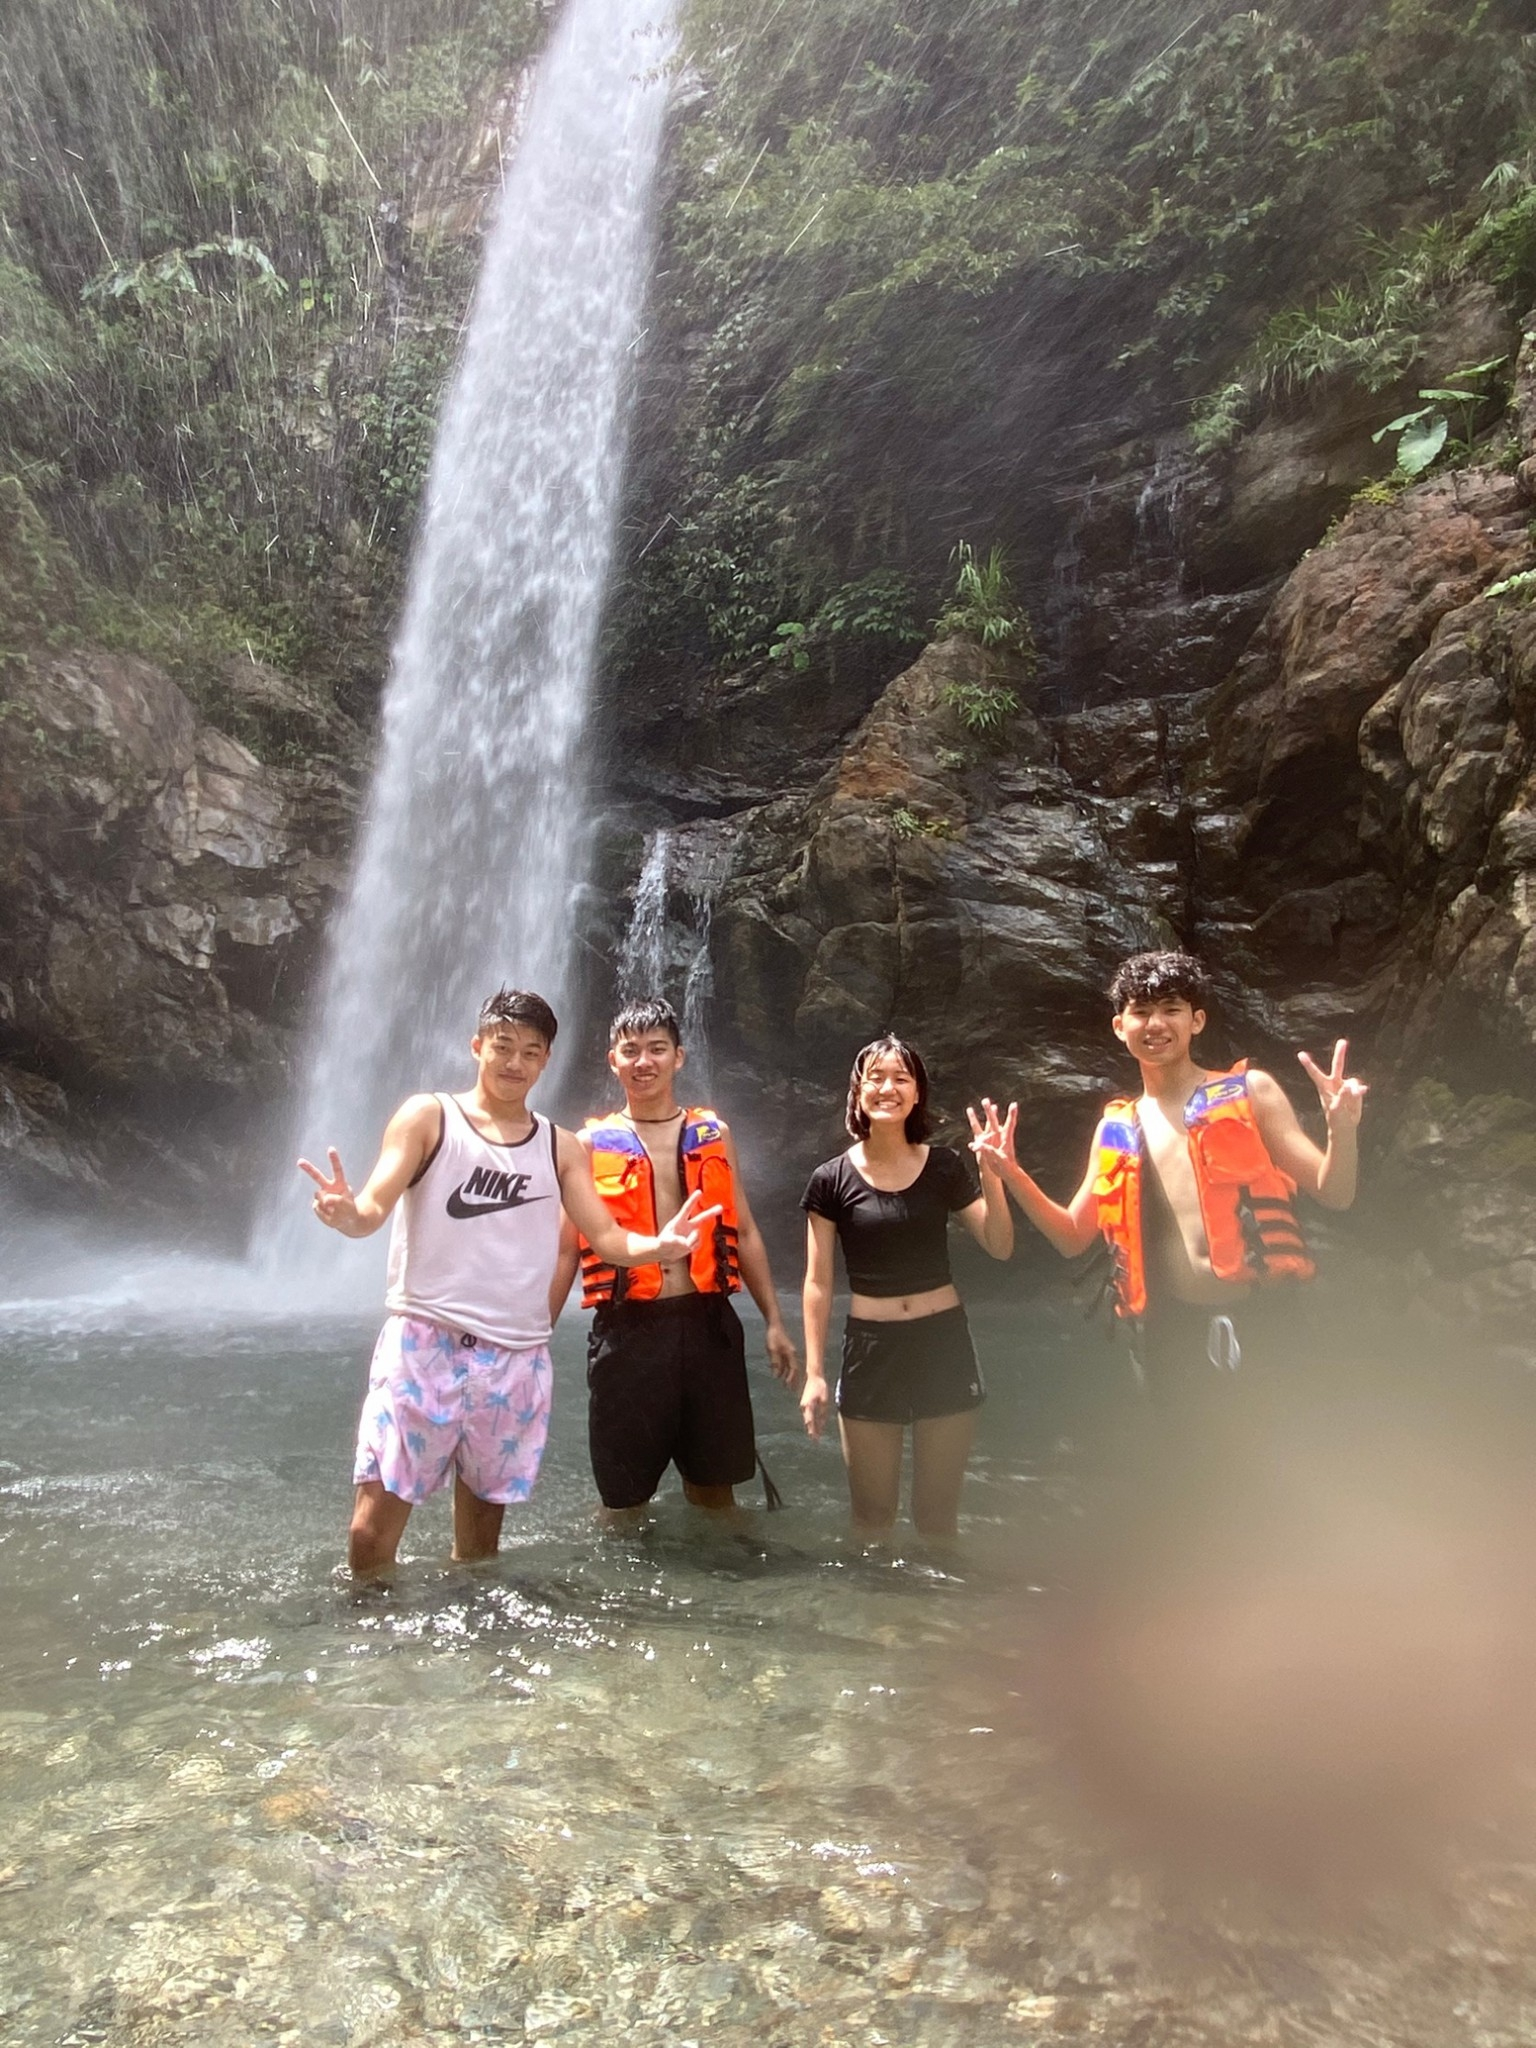people: (1082, 970, 1347, 1418), (563, 999, 766, 1570), (398, 996, 534, 1570), (847, 1038, 986, 1560)
